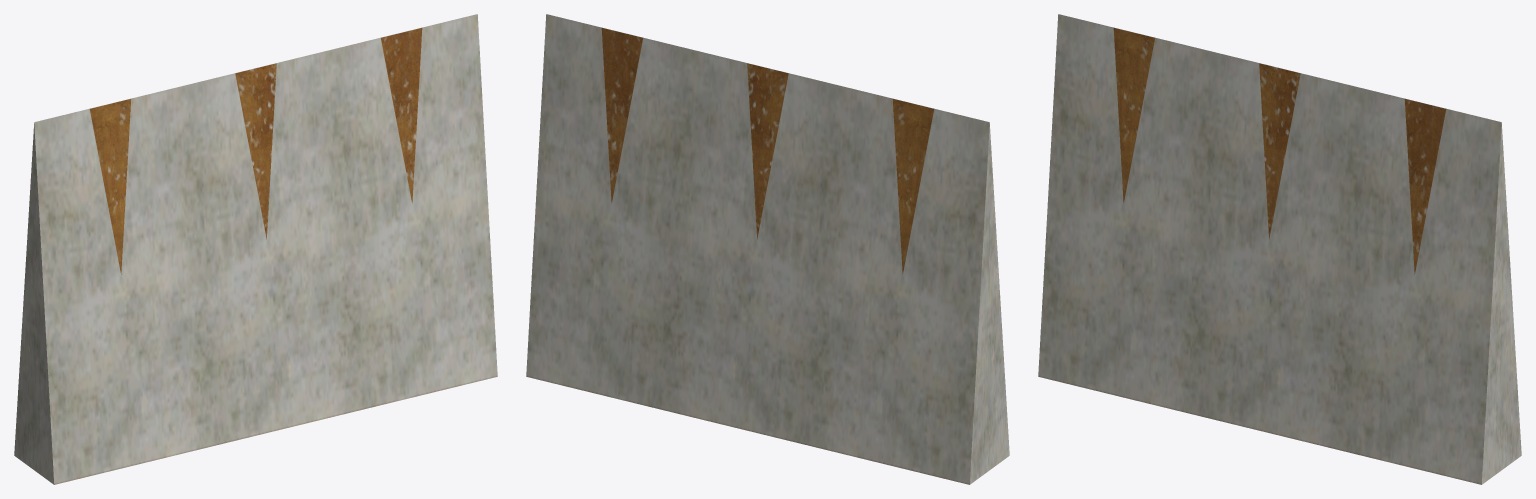
Rendered from mun_all_military_wall_weak_rebl_s01_l2.fbx.
The picture shows the model from 3 angles, left to right: view 1: azimuth 30°, elevation 25°; view 2: azimuth 150°, elevation 25°; view 3: azimuth 330°, elevation 25°; orthographic projection.
Visible parts, largest first — view 1: mesh_node; view 2: mesh_node; view 3: mesh_node.
Part boxes in pixels (x1,y1,x2,y2): mesh_node: (14, 14, 497, 484); mesh_node: (526, 14, 1009, 484); mesh_node: (1038, 14, 1521, 484).
Bounding box in the file's own units: 8 × 6 × 1.25.
1 material, 1 textured.
